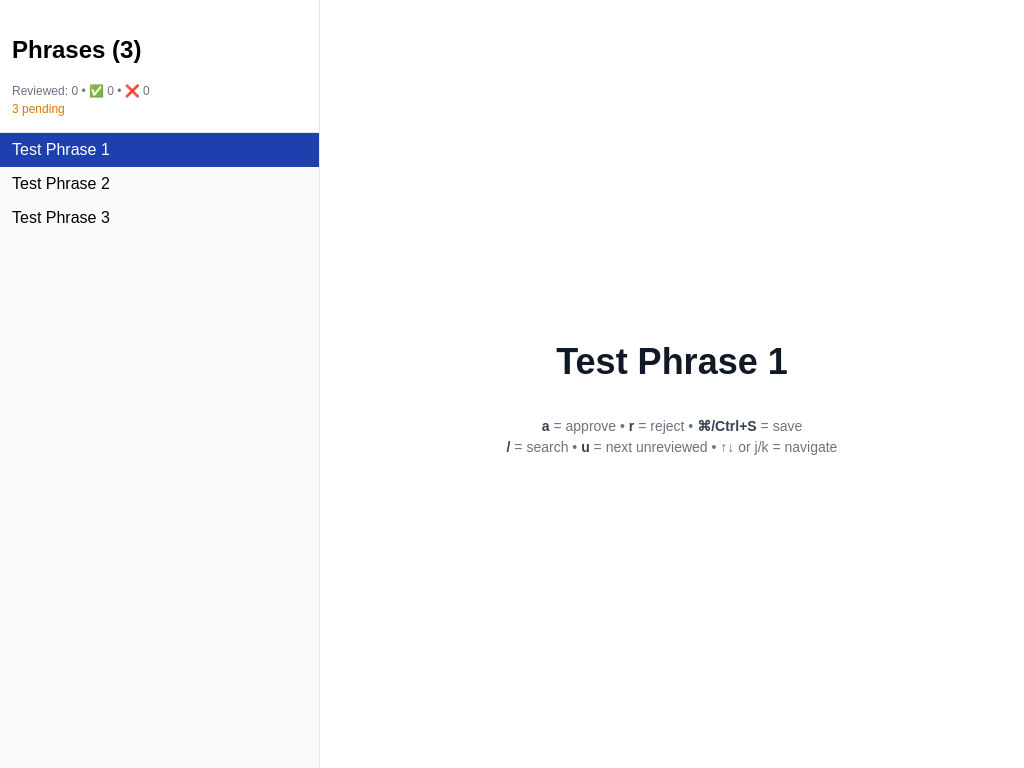
Test: App › submits rejection with reason
Press r
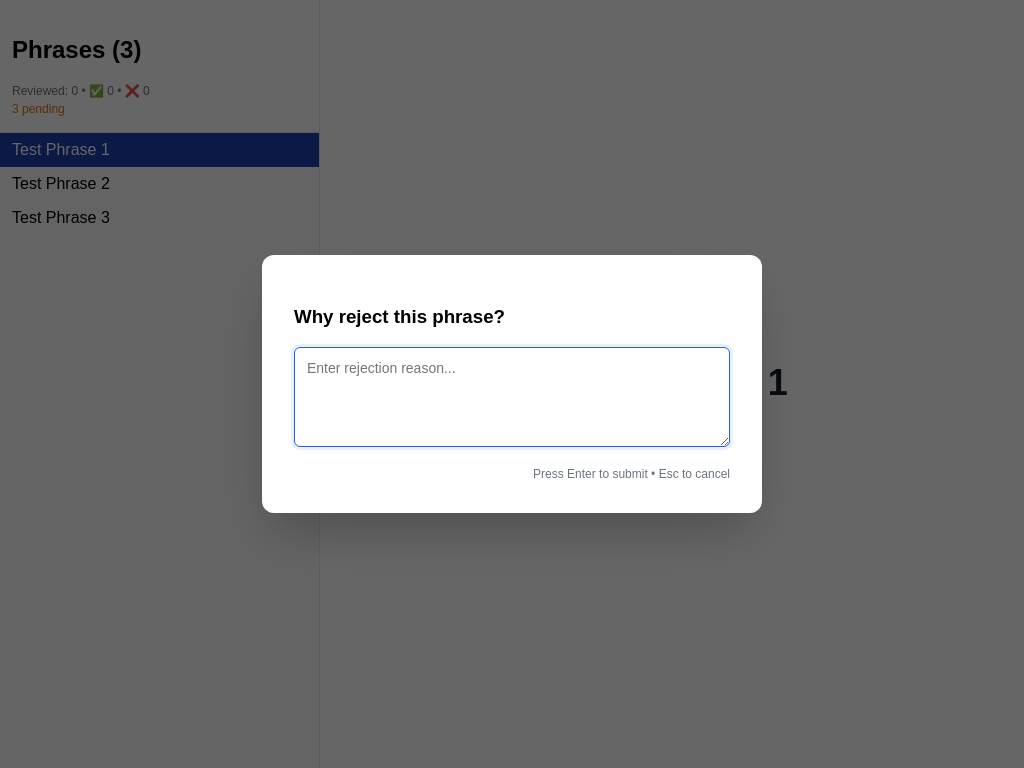
Type "Too specific" into the text box with placeholder "Enter rejection reason..." at x=512, y=397, box [294,347,730,447]
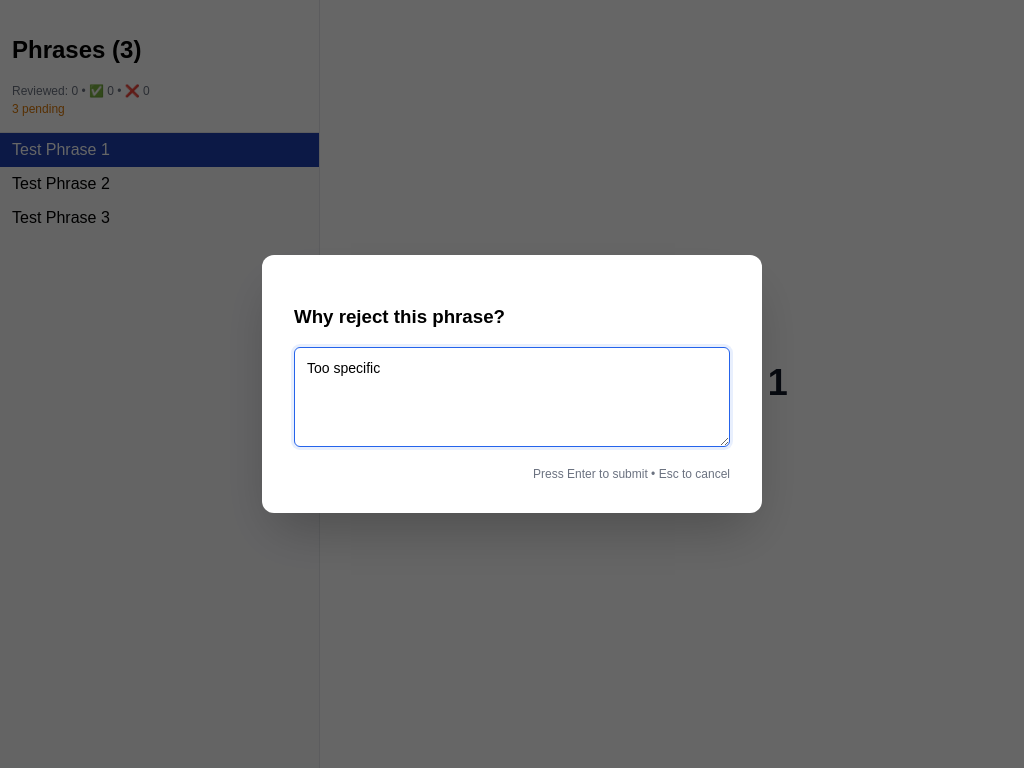
Press Enter
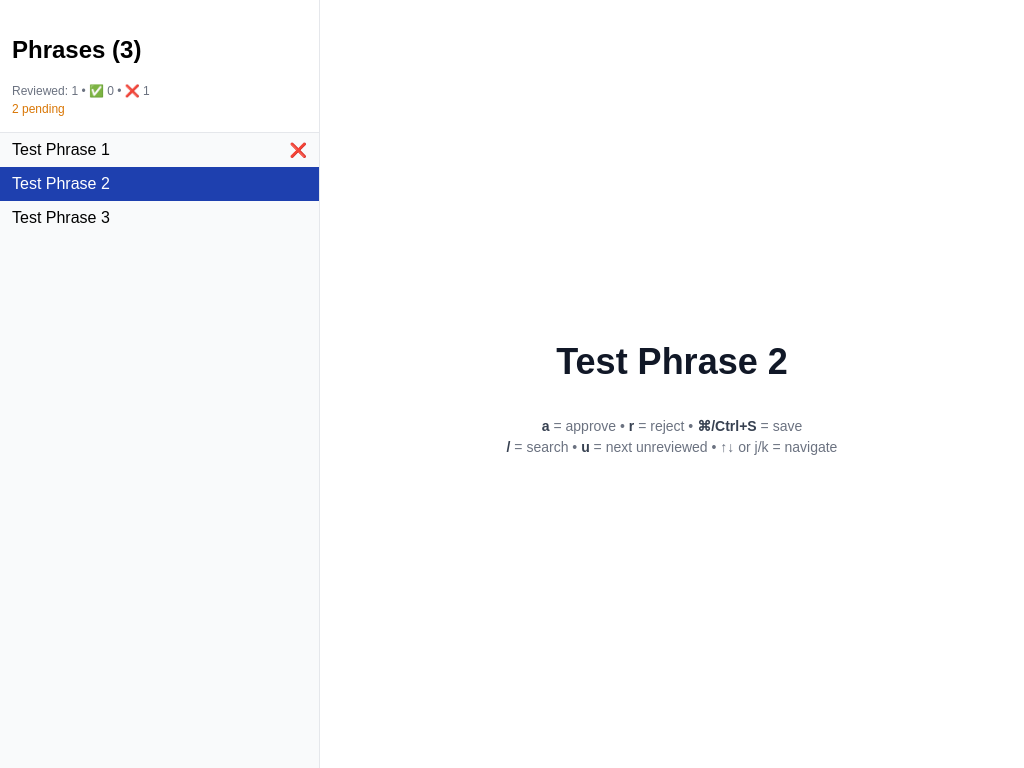
Expected: the text named "Status: rejected" is shown, [290,142,307,158]
